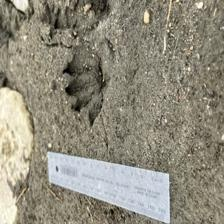raccoon: (89, 95, 171, 164)
